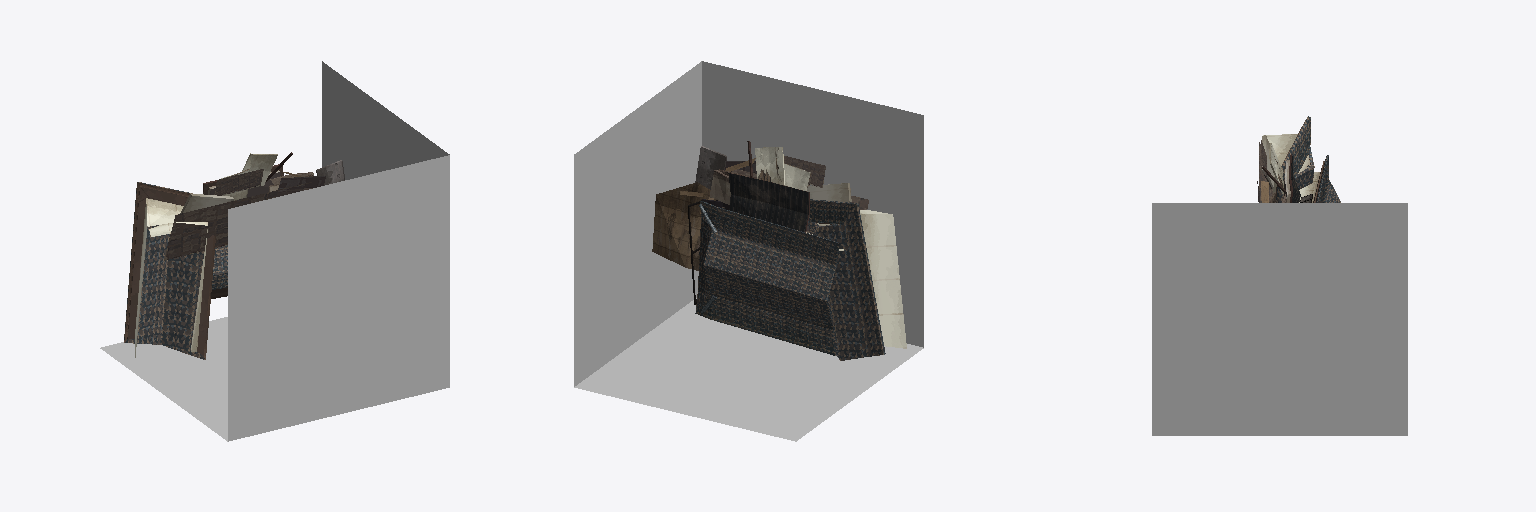
3 renders of one model, left to right at view 1: azimuth 30°, elevation 25°; view 2: azimuth 150°, elevation 25°; view 3: azimuth 270°, elevation 25°, orthographic.
Visible parts, largest first — view 1: Cube.007_Cube.013, Cube.008, Plane.003, Cube, Plane.005, Plane.004, Cube.011, Cube.006; view 2: Cube.007_Cube.013, Cube, Cube.008, Plane.002, Cube.002, Cube.006, Cube.012, Cube.011, Cube.004, Plane.005; view 3: Cube.007_Cube.013, Cube.008, Cube.
Part boxes in pixels (x1,y1,x2,y2): Cube.007_Cube.013: (100, 61, 449, 441); Cube.008: (124, 182, 215, 359); Plane.003: (164, 182, 311, 260); Cube: (149, 223, 227, 298); Plane.005: (214, 169, 263, 195); Plane.004: (276, 176, 325, 196); Cube.011: (180, 193, 233, 213); Cube.006: (242, 153, 277, 185); Cube.007_Cube.013: (574, 61, 923, 441); Cube: (695, 201, 843, 355); Cube.008: (808, 199, 906, 360); Plane.002: (652, 158, 755, 270); Cube.002: (728, 173, 809, 232); Cube.006: (755, 147, 784, 185); Cube.012: (695, 146, 726, 189); Cube.011: (807, 183, 851, 201); Cube.004: (710, 169, 746, 204); Plane.005: (784, 156, 825, 187); Cube.007_Cube.013: (1152, 203, 1407, 435); Cube.008: (1263, 116, 1314, 202); Cube: (1299, 155, 1340, 202).
Bounding box in the file's own units: 11.09 × 9.48 × 9.48.
Materials: 3 (2 with a texture image).